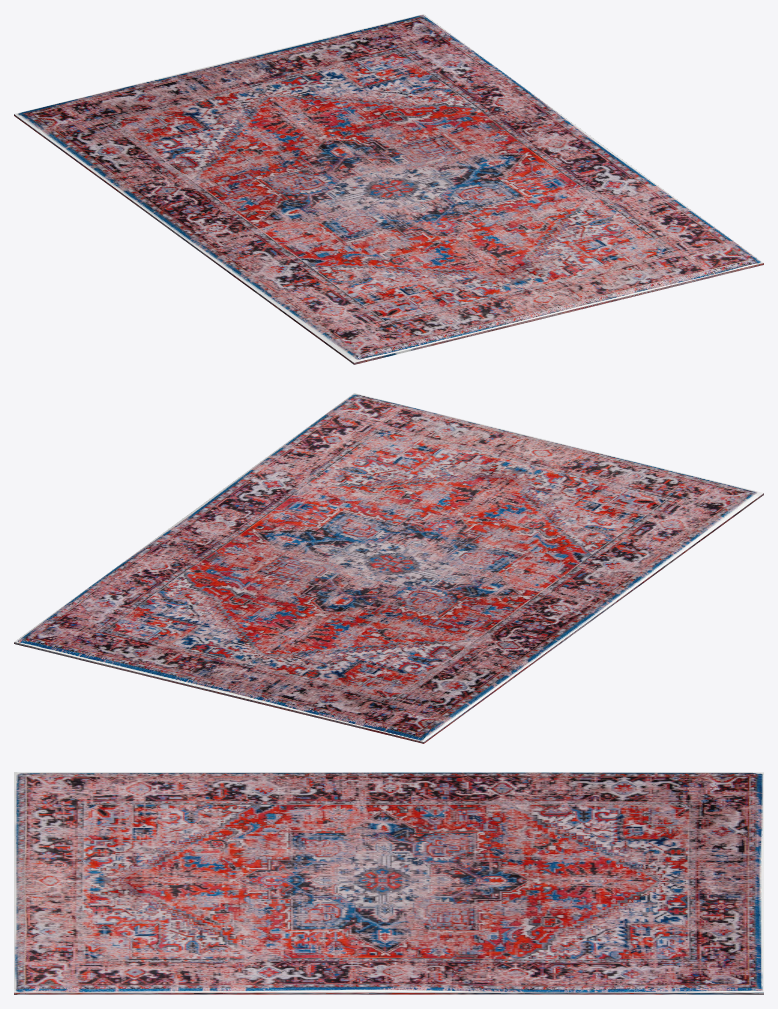
Rendered from present(1.6x2.3).glb.
3 renders of one model, top to bottom at view 1: azimuth 30°, elevation 25°; view 2: azimuth 150°, elevation 25°; view 3: azimuth 270°, elevation 25°, orthographic. The views are drawn at different scales.
Visible parts, largest first — view 1: Cube; view 2: Cube; view 3: Cube.
Boxes of the visible parts, bbox=[...] form: Cube: bbox=[14, 14, 763, 364]; Cube: bbox=[14, 393, 763, 743]; Cube: bbox=[14, 772, 763, 994].
Bounding box in the file's own units: 1.6 × 0.02 × 2.3.
Materials: 1 (1 with a texture image).
